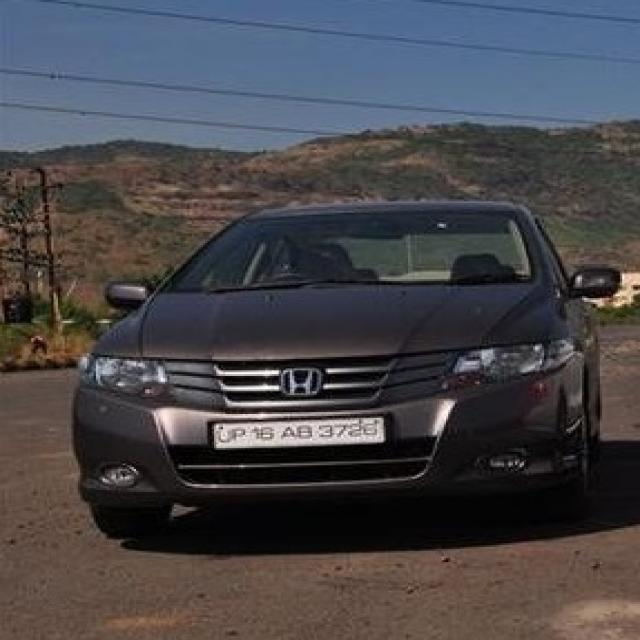license-plate: (208, 414, 382, 446)
